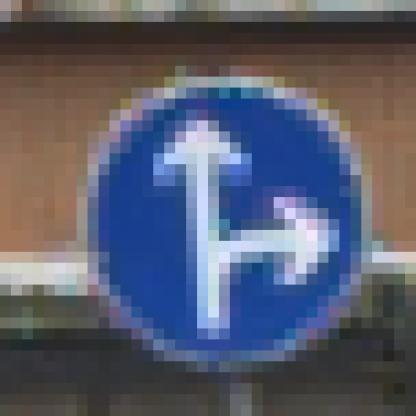Straight or Right: (67, 56, 362, 351)
